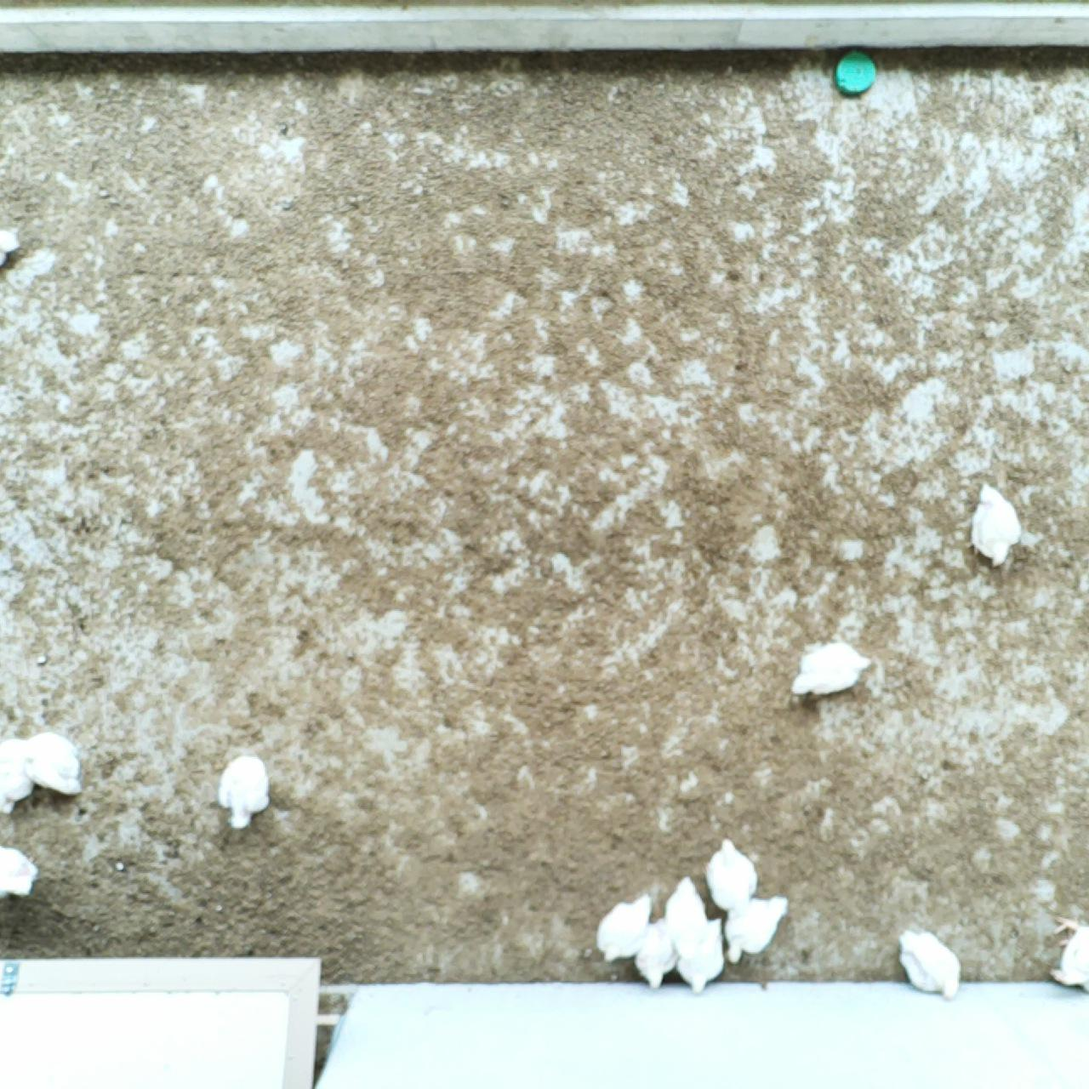chicken: (785, 636, 877, 703), (964, 478, 1028, 574), (210, 745, 277, 833), (894, 922, 965, 1002), (17, 724, 90, 799), (699, 833, 761, 920), (593, 889, 657, 969), (724, 893, 793, 966), (674, 913, 733, 998), (663, 872, 710, 962), (628, 914, 682, 991), (1042, 909, 1089, 995), (0, 734, 43, 817), (0, 836, 37, 904)
